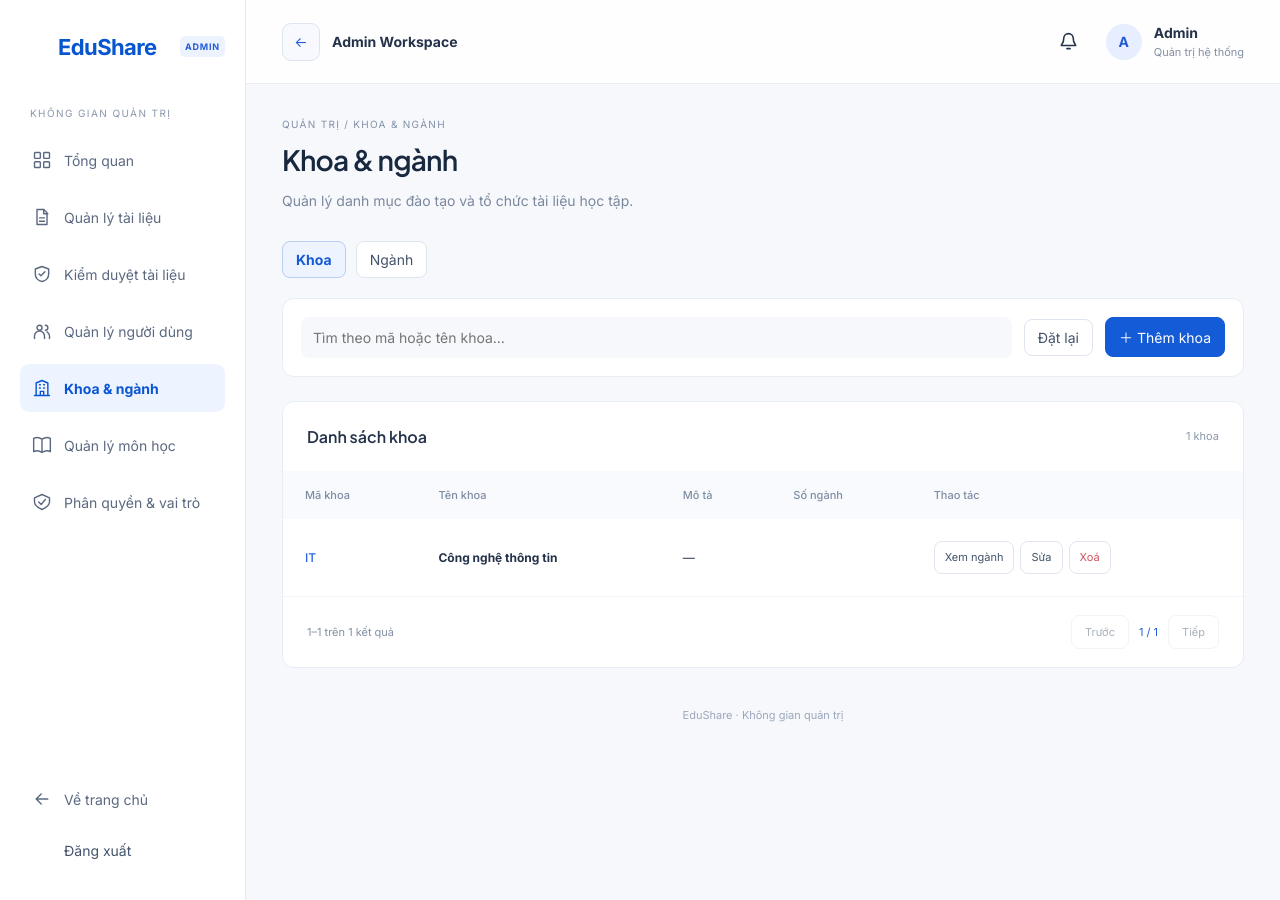
Test: Admin workspace › opens the selected faculty and creates a major inside it
The width and height of the screenshot is (1280, 900).
Click the button "Xem ngành": (974, 558) [934,541,1014,574]
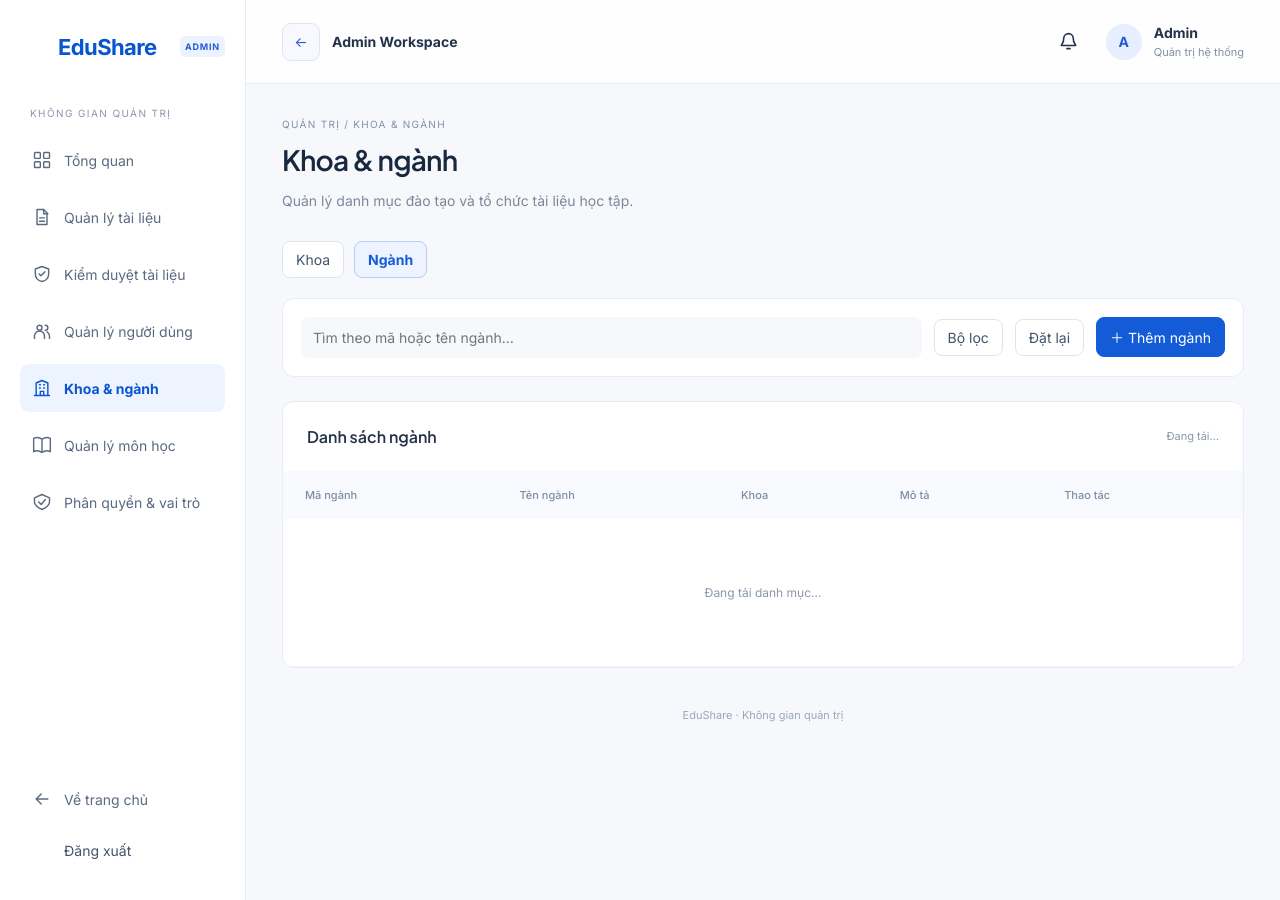
Click the button "＋ Thêm ngành": (1161, 337) [1096,317,1225,357]
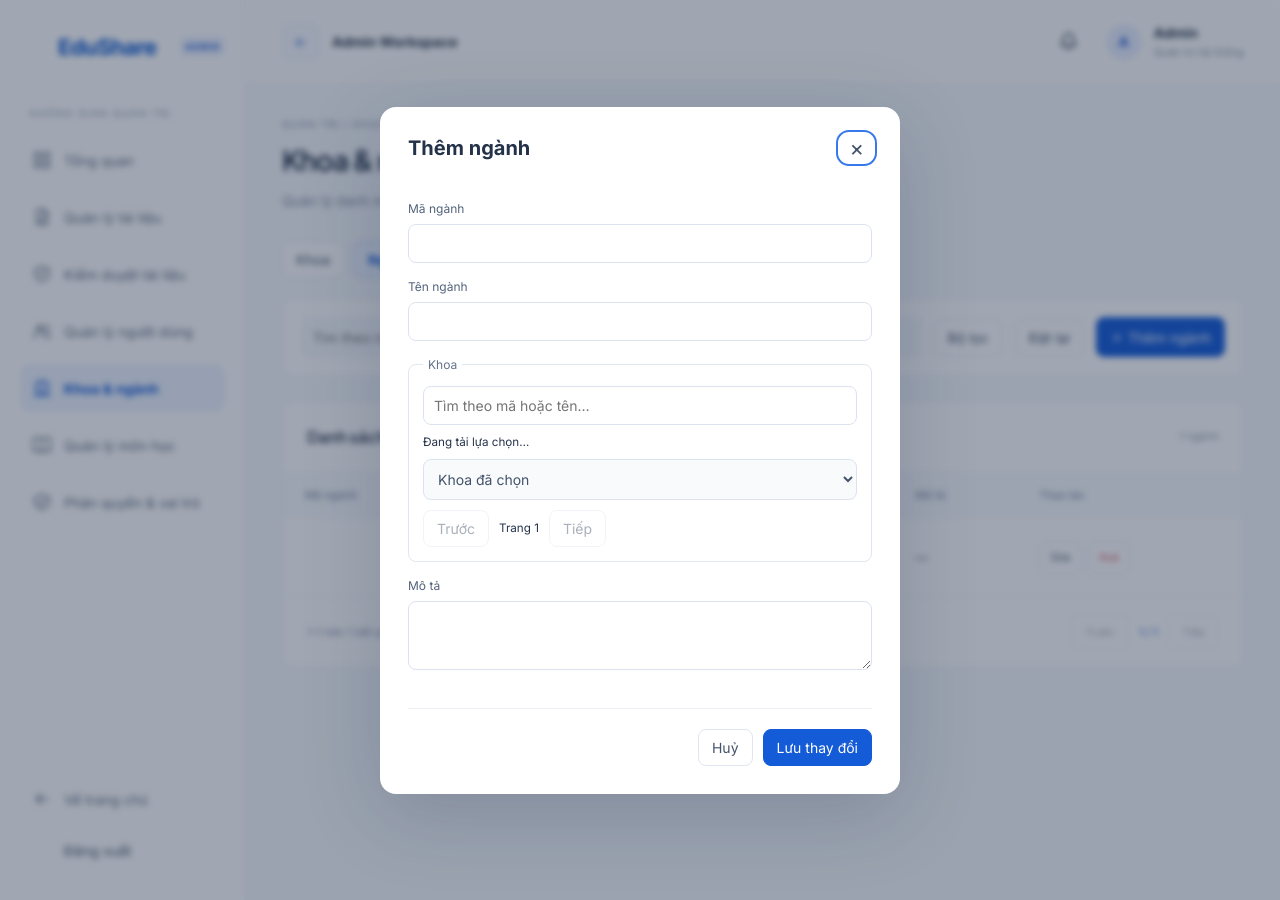
In the field labelled "Mã ngành": (640, 243) [408,224,872,262], type "SE"
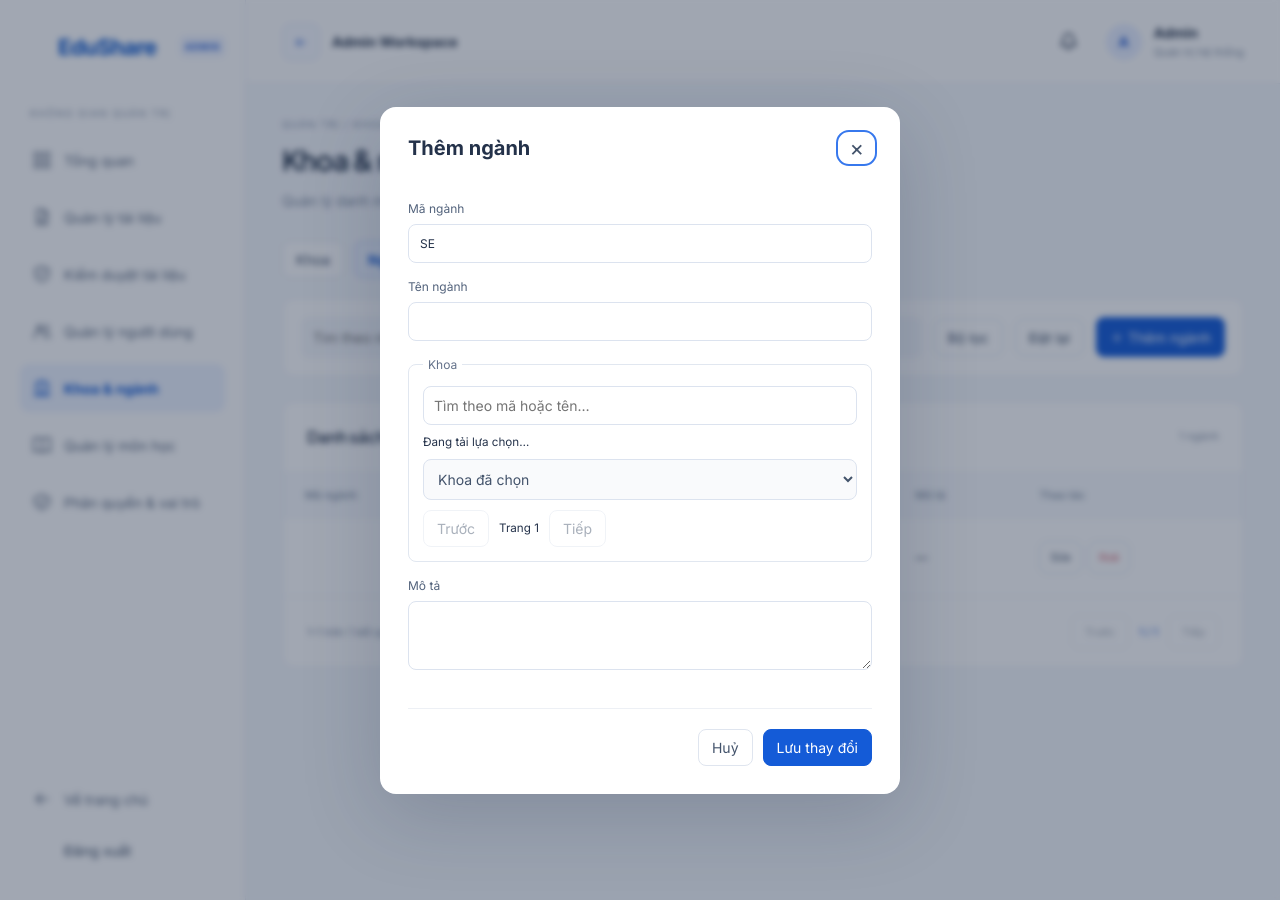
In the field labelled "Tên ngành": (640, 321) [408,302,872,340], type "Kỹ thuật phần mềm"
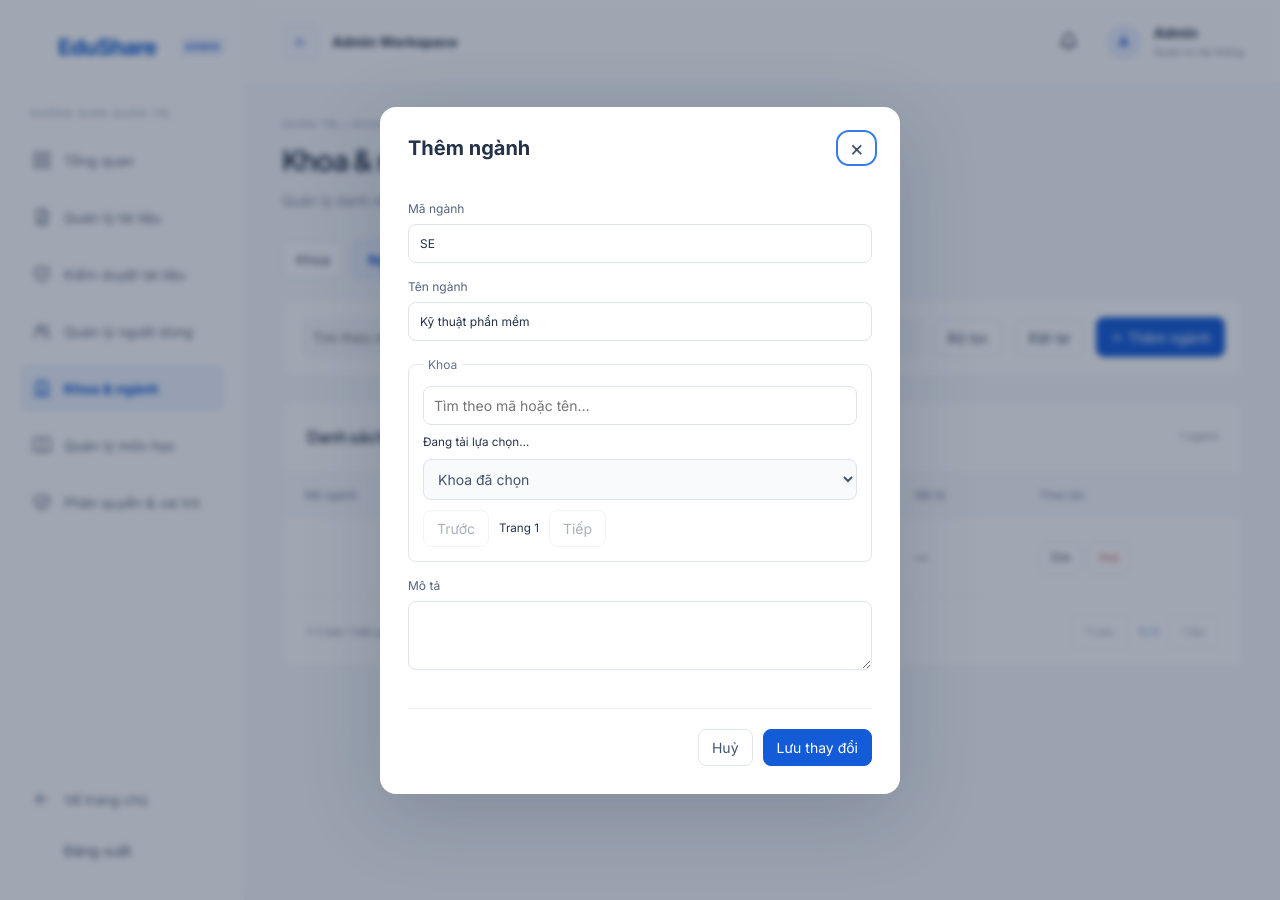
Check: the dropdown named "Khoa" shows "Khoa đã chọn", box [423,458,857,500]
Click the button "Lưu thay đổi": (817, 747) [762,728,872,766]
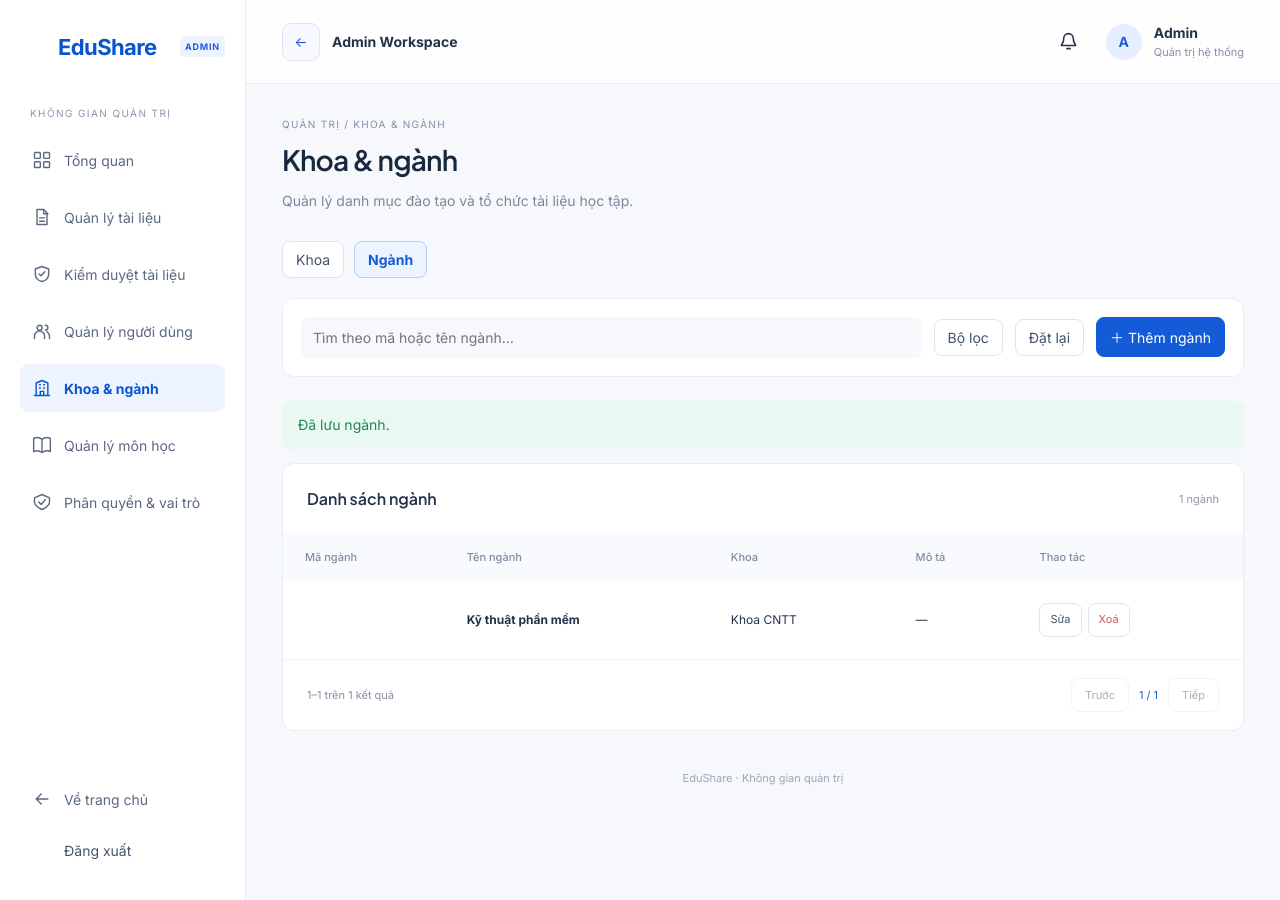
Check: the text "Đã lưu ngành." is shown, box [282,401,1244,449]
